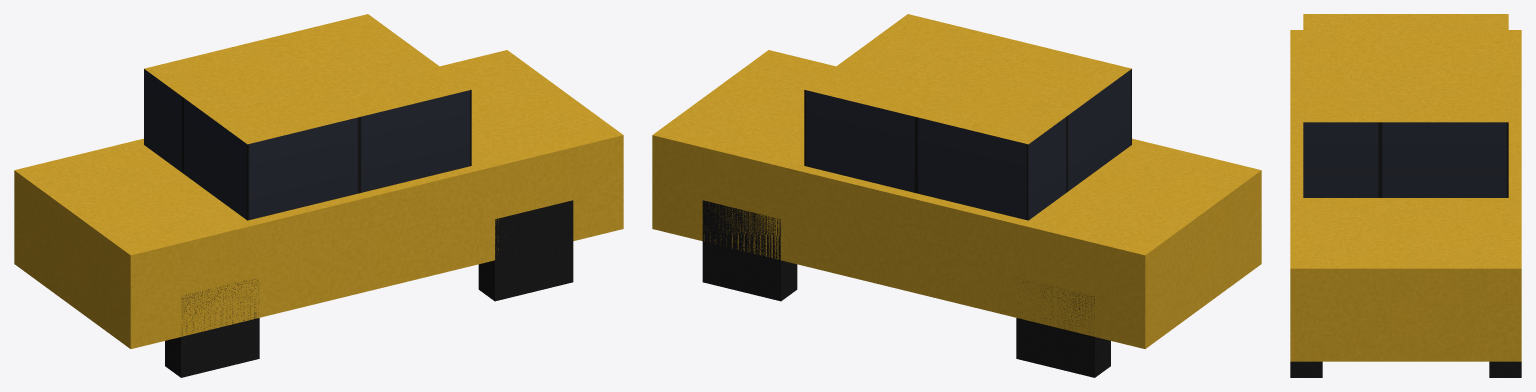
Rendered from car_yellow.obj.
The picture shows the model from 3 angles, left to right: view 1: azimuth 30°, elevation 25°; view 2: azimuth 150°, elevation 25°; view 3: azimuth 270°, elevation 25°; orthographic projection.
Visible parts, largest first — view 1: Body_Paint_yellow, Cabin_Glass, Cabin_Paint_yellow, Wheels_Tire; view 2: Body_Paint_yellow, Cabin_Glass, Cabin_Paint_yellow, Wheels_Tire; view 3: Body_Paint_yellow, Cabin_Paint_yellow, Cabin_Glass, Wheels_Tire.
Part boxes in pixels (x1,y1,x2,y2): Body_Paint_yellow: [14, 50, 623, 348]; Cabin_Glass: [144, 69, 471, 220]; Cabin_Paint_yellow: [144, 14, 471, 144]; Wheels_Tire: [165, 200, 573, 377]; Body_Paint_yellow: [652, 50, 1261, 348]; Cabin_Glass: [804, 69, 1131, 220]; Cabin_Paint_yellow: [804, 14, 1131, 144]; Wheels_Tire: [702, 200, 1110, 377]; Body_Paint_yellow: [1290, 30, 1521, 361]; Cabin_Paint_yellow: [1303, 14, 1508, 122]; Cabin_Glass: [1303, 122, 1508, 197]; Wheels_Tire: [1290, 361, 1521, 377].
Bounding box in the file's own units: 4.4 × 1.8 × 1.8.
Materials: 3 (3 with a texture image).
